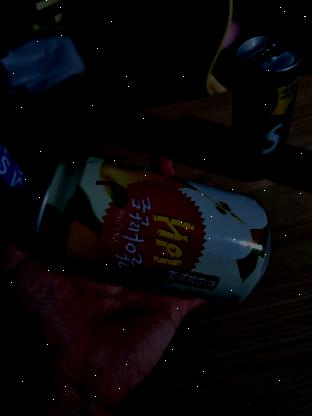Can: (28, 155, 271, 306), (234, 36, 305, 184)
